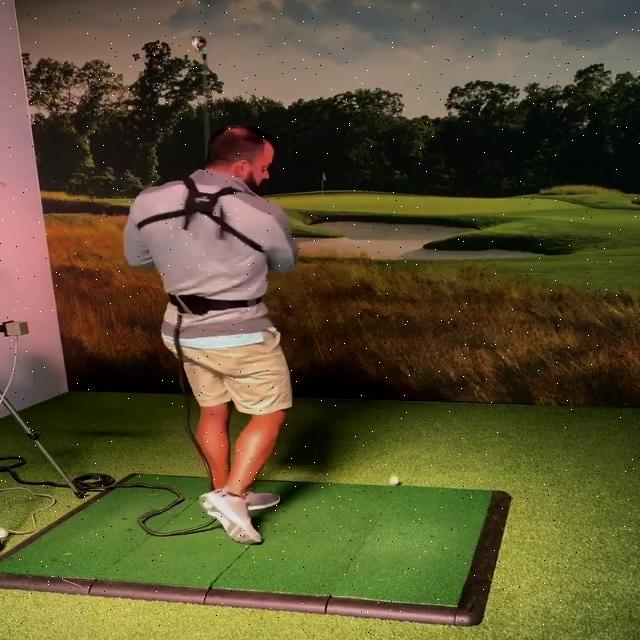golf ball: (388, 477, 399, 485)
golf club-handle: (191, 37, 211, 160)
golf club-head: (190, 37, 207, 52)
